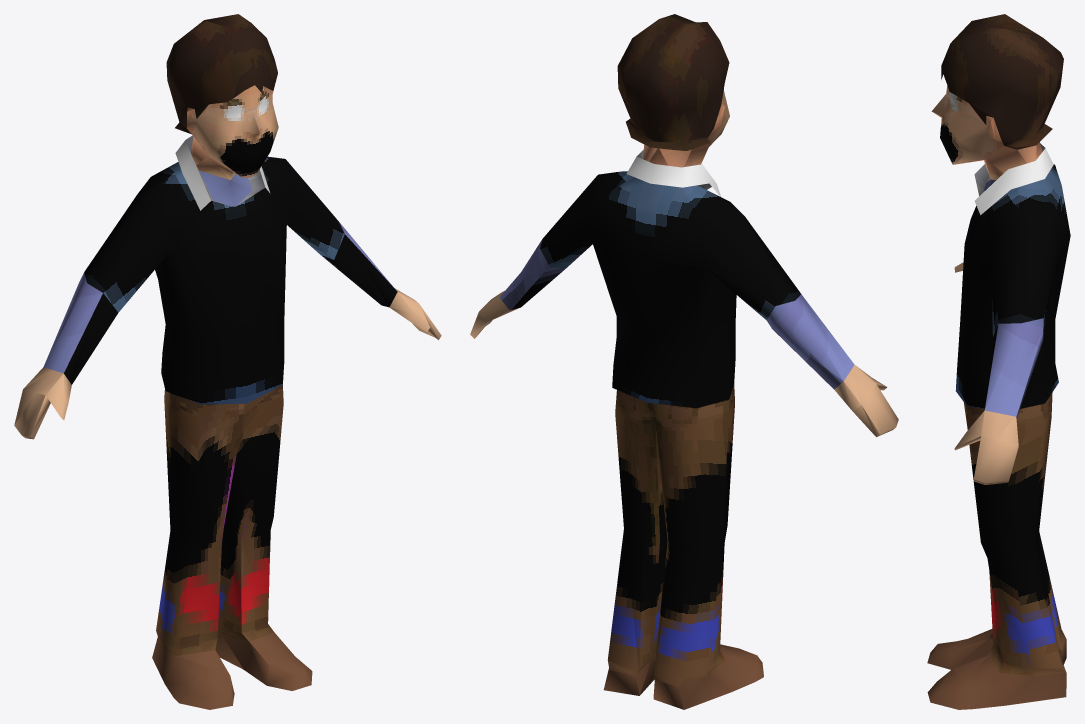
File: corrupted_josh.glb
3 renders of one model, left to right at view 1: azimuth 30°, elevation 25°; view 2: azimuth 150°, elevation 25°; view 3: azimuth 270°, elevation 25°, orthographic.
Parts seen in each view (by area): view 1: Object_3, Object_4, Object_2, Object_5; view 2: Object_3, Object_4, Object_5, Object_2; view 3: Object_3, Object_4, Object_5, Object_2.
Part boxes in pixels (x1,y1,x2,y2): Object_3: (43,135,397,404); Object_4: (152,385,312,709); Object_2: (14,85,441,439); Object_5: (166,14,277,134); Object_3: (499,150,854,408); Object_4: (603,384,763,709); Object_5: (617,14,729,150); Object_2: (470,89,898,437); Object_3: (955,143,1070,418); Object_4: (927,392,1066,709); Object_5: (941,14,1063,149); Object_2: (931,86,1042,484).
Size of the model in its own units: 1.51 by 2.25 by 0.445.
4 materials, 4 textured.
